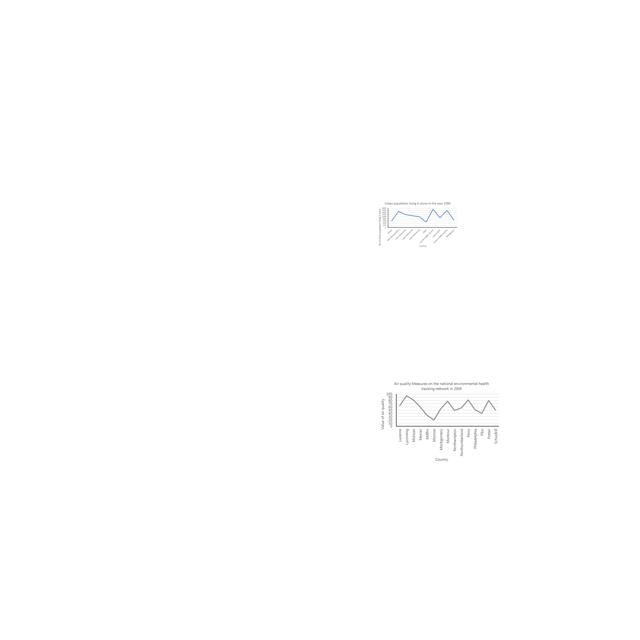Graph: (378, 379, 501, 464), (376, 200, 459, 248)
